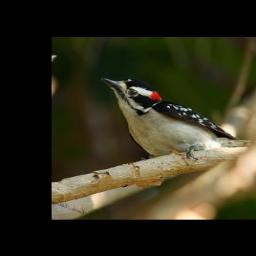Woodpecker: (100, 72, 256, 163)
